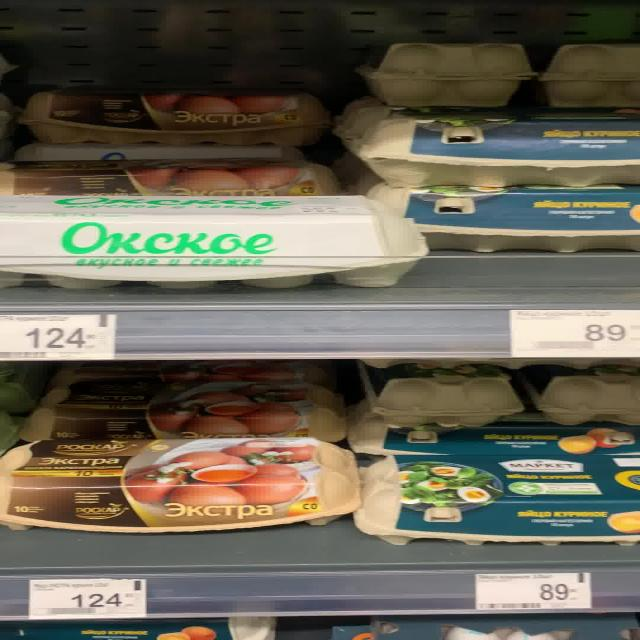egg box: (2, 193, 429, 290), (2, 438, 365, 532), (356, 452, 637, 548), (346, 110, 638, 186), (19, 382, 345, 440), (365, 184, 638, 253), (31, 88, 325, 149)
